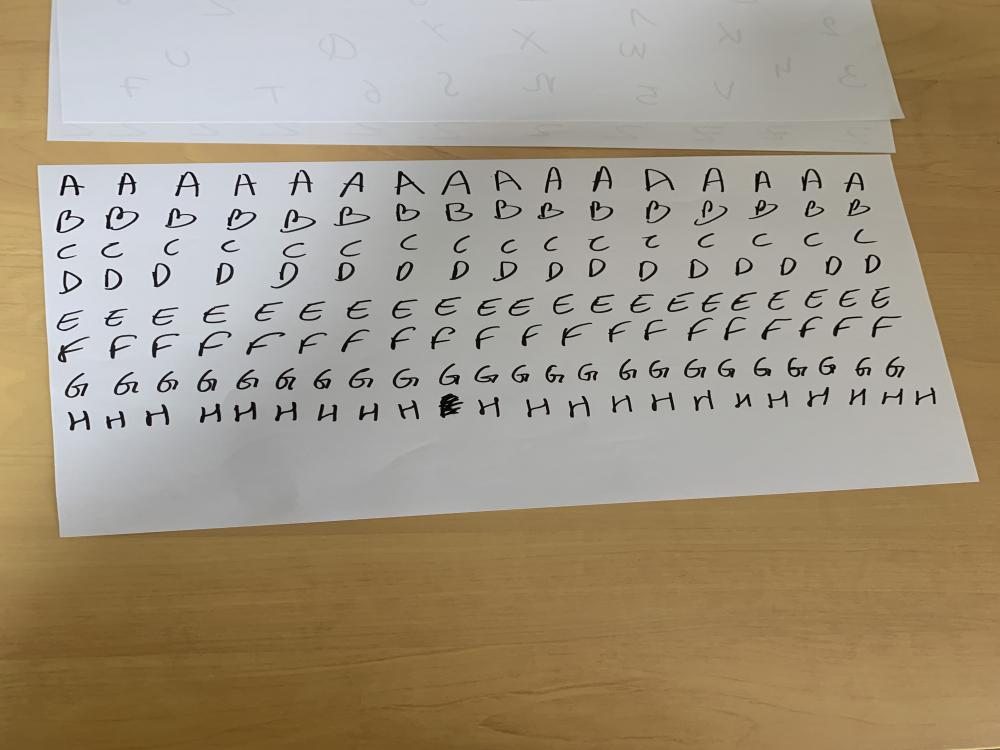A: (642, 166, 680, 194), (173, 170, 205, 200), (56, 170, 88, 200), (440, 168, 474, 196), (391, 169, 426, 196), (490, 167, 526, 193), (338, 170, 368, 201), (230, 170, 262, 197), (700, 165, 728, 194), (288, 168, 316, 196), (799, 166, 826, 195), (590, 164, 616, 194), (115, 169, 141, 199), (541, 164, 564, 196), (844, 169, 868, 196), (754, 170, 774, 195)
B: (690, 197, 733, 224), (50, 208, 91, 236), (278, 208, 319, 235), (222, 205, 262, 232), (104, 205, 142, 232), (745, 196, 784, 222), (161, 206, 200, 230), (640, 197, 674, 224), (332, 206, 374, 227), (842, 197, 878, 220), (582, 198, 616, 222), (442, 202, 473, 224), (492, 198, 522, 220), (536, 201, 566, 221), (393, 203, 422, 223), (800, 199, 827, 220)
C: (692, 230, 723, 250), (97, 241, 129, 260), (583, 232, 613, 252), (337, 238, 367, 258), (450, 232, 477, 254), (161, 236, 188, 258), (280, 242, 313, 260), (52, 242, 82, 261), (852, 227, 880, 247), (750, 230, 776, 250), (494, 236, 522, 254), (637, 231, 661, 251), (216, 238, 242, 255), (802, 230, 825, 249), (543, 235, 565, 254), (399, 233, 422, 251)
D: (486, 258, 524, 284), (210, 260, 240, 290), (271, 260, 301, 289), (60, 268, 90, 297), (100, 267, 129, 295), (632, 259, 663, 284), (333, 260, 365, 284), (446, 258, 475, 284), (149, 260, 173, 289), (732, 253, 757, 280), (684, 258, 712, 282), (538, 260, 566, 284), (584, 255, 610, 280), (392, 258, 417, 283), (821, 254, 846, 278), (777, 255, 800, 280)
E: (56, 306, 90, 333), (430, 296, 466, 319), (762, 288, 796, 312), (664, 290, 698, 314), (726, 290, 762, 312), (252, 300, 286, 323), (296, 298, 328, 322), (867, 284, 896, 310), (550, 292, 579, 318), (342, 298, 376, 320), (200, 303, 232, 326), (801, 287, 832, 310), (699, 290, 728, 314), (474, 294, 502, 317), (588, 292, 617, 314), (507, 296, 536, 318), (390, 298, 419, 320), (152, 306, 181, 328), (834, 288, 865, 308), (630, 292, 655, 315), (103, 308, 129, 328), (861, 252, 882, 275)
F: (53, 334, 101, 364), (194, 329, 238, 359), (242, 330, 287, 357), (865, 314, 908, 341), (560, 320, 596, 348), (338, 327, 375, 354), (150, 331, 184, 360), (828, 313, 865, 339), (719, 314, 753, 342), (106, 333, 141, 360), (296, 331, 332, 355), (759, 316, 794, 340), (388, 325, 419, 352), (795, 314, 827, 340), (684, 316, 716, 342), (606, 318, 638, 344), (472, 324, 503, 350), (430, 326, 457, 351), (642, 318, 670, 342), (519, 324, 546, 348)
G: (677, 352, 711, 384), (62, 372, 96, 400), (110, 370, 145, 397), (435, 360, 466, 390), (309, 364, 343, 390), (388, 367, 422, 393), (231, 368, 266, 392), (614, 357, 646, 382), (271, 365, 300, 392), (348, 364, 377, 390), (574, 359, 604, 383), (154, 370, 182, 395), (473, 361, 502, 385), (882, 354, 908, 380), (646, 356, 674, 380), (508, 362, 536, 386), (195, 370, 222, 394), (750, 356, 776, 379), (784, 356, 810, 378), (541, 363, 564, 386), (849, 355, 873, 377), (716, 356, 738, 380), (816, 354, 838, 376)
H: (64, 408, 96, 436), (566, 394, 596, 420), (143, 403, 174, 428), (687, 389, 719, 413), (521, 395, 553, 419), (273, 399, 302, 425), (474, 396, 504, 420), (648, 392, 680, 413), (232, 399, 260, 423), (198, 401, 226, 425), (910, 385, 938, 408), (314, 402, 343, 424), (356, 401, 384, 423), (878, 386, 907, 406), (104, 409, 128, 432), (610, 393, 636, 414), (398, 399, 423, 420), (764, 390, 791, 409), (846, 386, 868, 408), (808, 386, 830, 408), (732, 391, 756, 410)
